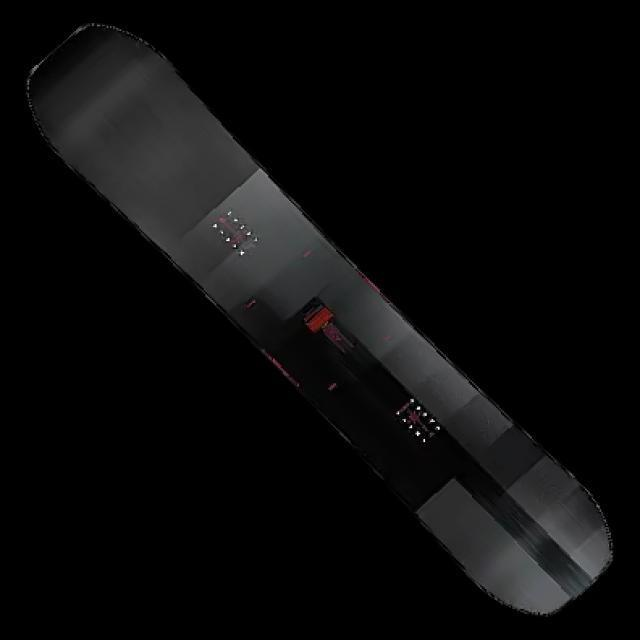Snowboard: (24, 20, 614, 617)
